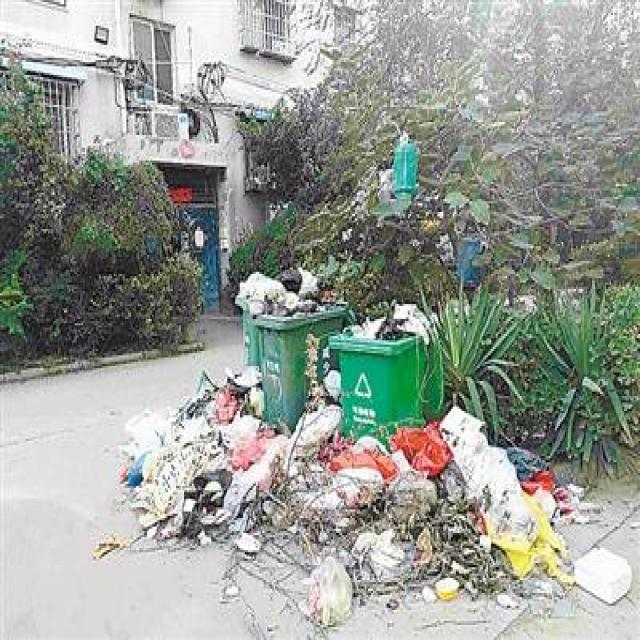garbage: (91, 364, 634, 627)
overflow: (232, 266, 354, 432), (326, 298, 444, 450)
